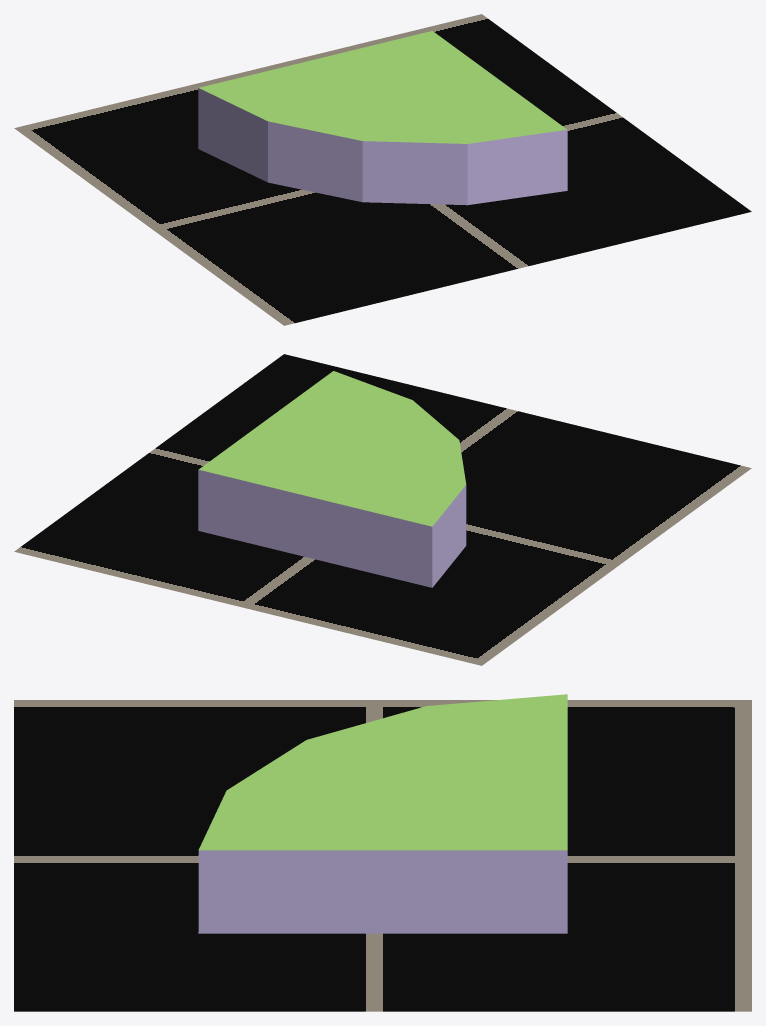
Rendered from Tiered_Grass_Curve_Outer_1x1.glb.
3 views of the same model, one above another, from view 1: azimuth 30°, elevation 25°; view 2: azimuth 150°, elevation 25°; view 3: azimuth 270°, elevation 25° (orthographic). The views are drawn at different scales.
Visible parts, largest first — view 1: Floor, Tiered_Grass_Curve_Outer_1x1; view 2: Floor, Tiered_Grass_Curve_Outer_1x1; view 3: Floor, Tiered_Grass_Curve_Outer_1x1.
Part boxes in pixels (x1=…): Floor: x1=14, y1=14, x2=751, y2=325; Tiered_Grass_Curve_Outer_1x1: x1=198, y1=31, x2=567, y2=205; Floor: x1=14, y1=354, x2=751, y2=665; Tiered_Grass_Curve_Outer_1x1: x1=198, y1=371, x2=466, y2=587; Floor: x1=14, y1=700, x2=751, y2=1011; Tiered_Grass_Curve_Outer_1x1: x1=198, y1=694, x2=567, y2=933.
Size of the model in its own units: 200 by 25 by 200.
Materials: 4 (1 with a texture image).
